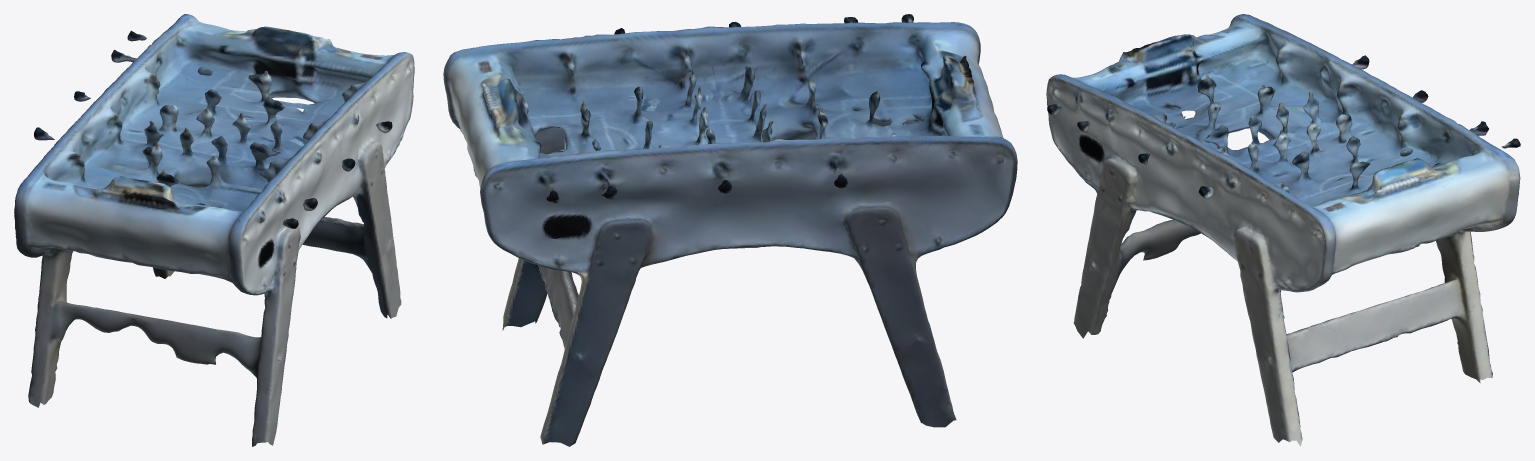
The model's file is babyfoot.glb.
3 renders of one model, left to right at view 1: azimuth 30°, elevation 25°; view 2: azimuth 150°, elevation 25°; view 3: azimuth 270°, elevation 25°, orthographic. The views are drawn at different scales.
Visible parts, largest first — view 1: 3DModel; view 2: 3DModel; view 3: 3DModel.
Part boxes in pixels (<box>): 3DModel: <box>14,14,414,446</box>; 3DModel: <box>443,14,1017,446</box>; 3DModel: <box>1046,14,1520,446</box>.
Bounding box in the file's own units: 0.7138 × 0.3964 × 0.6605.
Materials: 1 (1 with a texture image).
